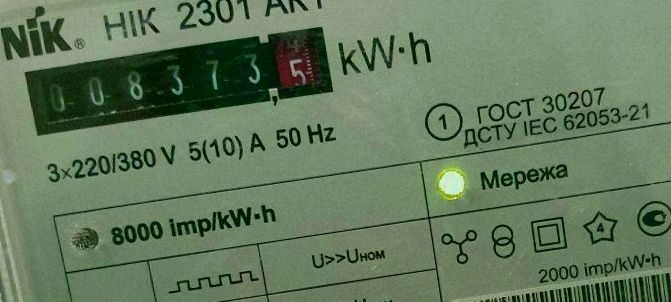0: (43, 77, 68, 115), (83, 70, 107, 109)
3: (238, 47, 265, 87), (161, 59, 187, 98)
4: (282, 33, 302, 56)
5: (286, 54, 309, 86)
7: (200, 52, 224, 93)
8: (121, 64, 147, 103)
screen: (17, 17, 343, 149)
